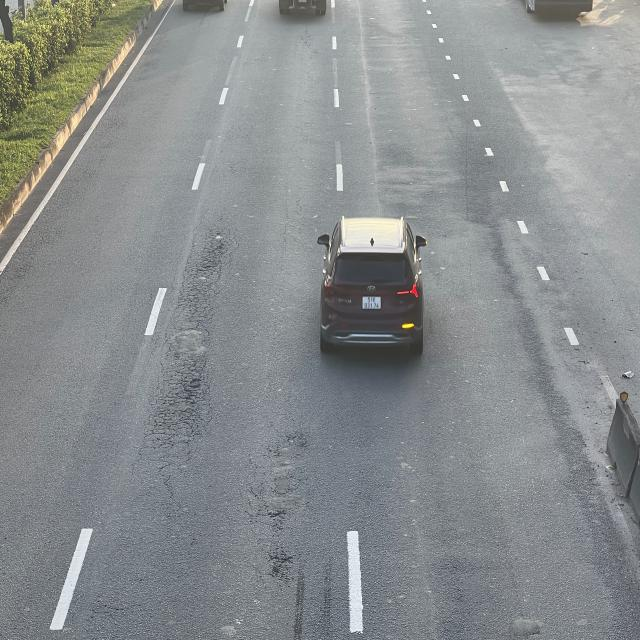car: (319, 218, 429, 361)
